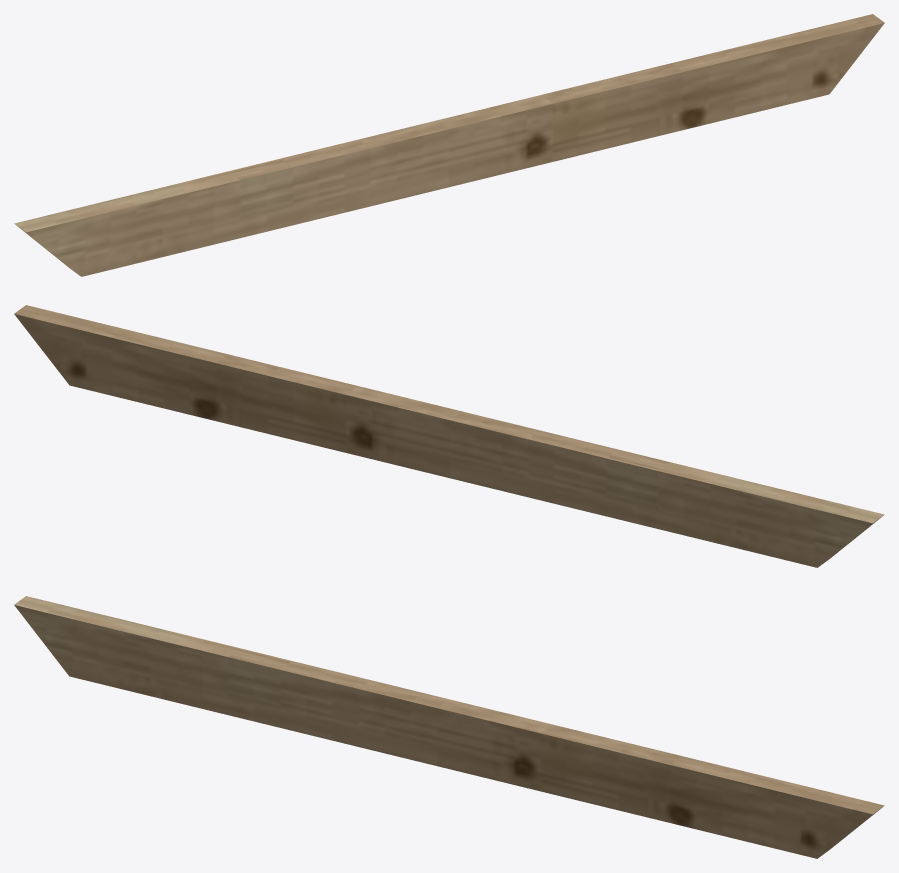
File: Joglo_part_289.fbx
3 renders of one model, top to bottom at view 1: azimuth 30°, elevation 25°; view 2: azimuth 150°, elevation 25°; view 3: azimuth 330°, elevation 25°, orthographic.
Parts seen in each view (by area): view 1: Mesh353_Wood___Pine_Grained_Horizontal_0.001; view 2: Mesh353_Wood___Pine_Grained_Horizontal_0.001; view 3: Mesh353_Wood___Pine_Grained_Horizontal_0.001.
Part boxes in pixels (box(x1,y1,x2,y2)): Mesh353_Wood___Pine_Grained_Horizontal_0.001: box(14, 14, 884, 276); Mesh353_Wood___Pine_Grained_Horizontal_0.001: box(14, 305, 884, 567); Mesh353_Wood___Pine_Grained_Horizontal_0.001: box(14, 596, 884, 858).
Size of the model in its own units: 30.47 by 1.97 by 0.7446.
